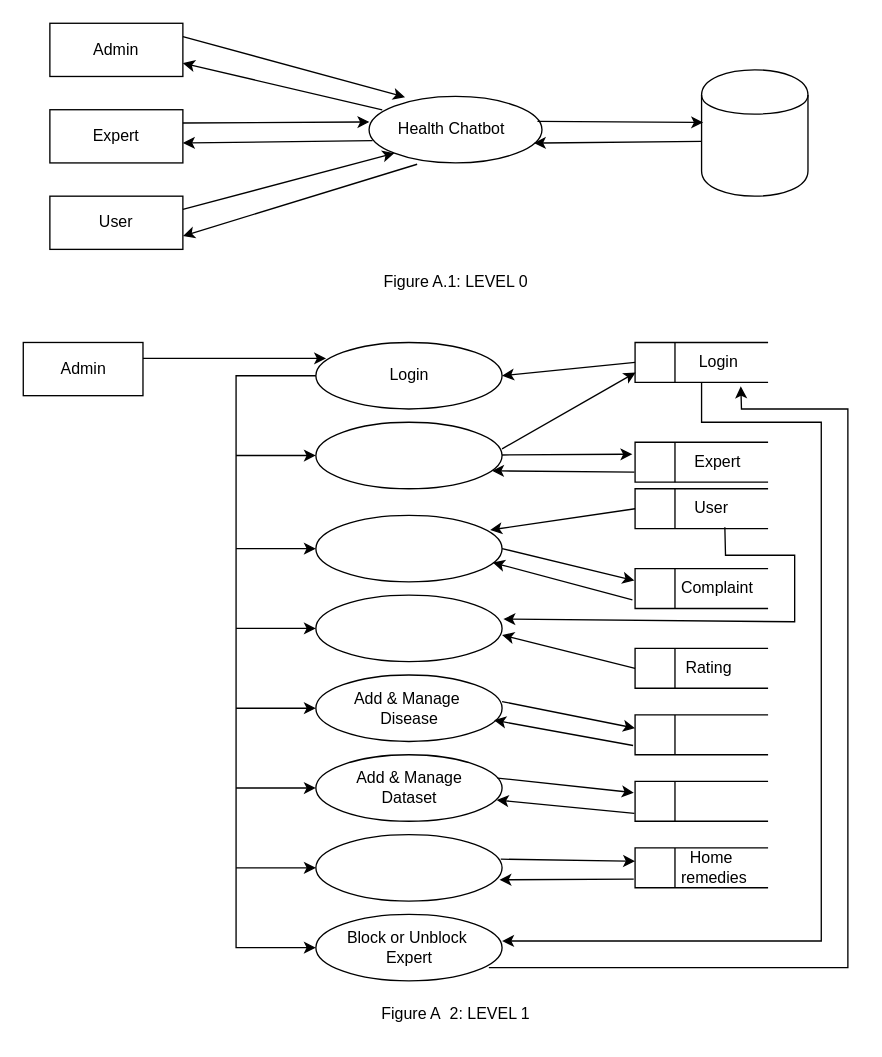
This 882x1057 diagram has some shape labels left out. Here are the shapes that lost their labels. From the top down, the centre of each, then its label:
At point (754, 132): "Database".
At point (408, 455): "Add & Manage Expert".
At point (408, 548): "View complaint and Send reply".
At point (408, 628): "View rating".
At point (701, 734): "Disease".
At point (701, 800): "Dataset".
At point (408, 867): "Add & Manage Home remedies".
